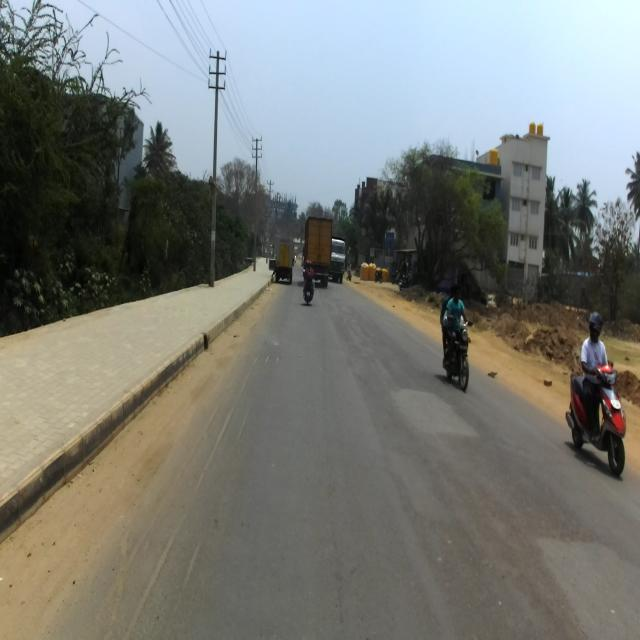electric pole ahead at: (203, 42, 231, 293)
motorcycle ahead at: (560, 356, 627, 482)
truck ahead at: (271, 234, 295, 291)
